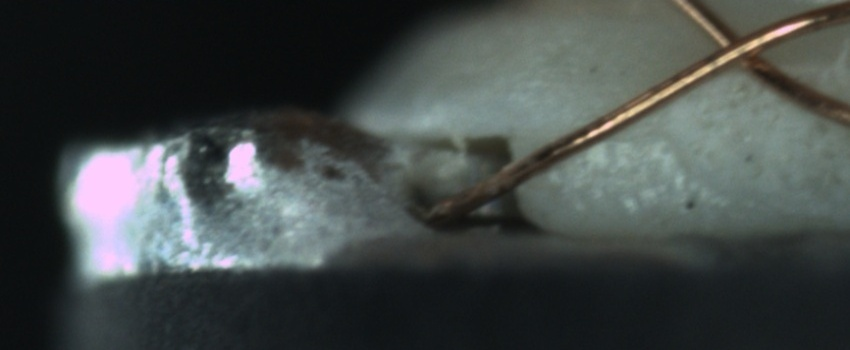CL: (689, 11, 795, 84)
